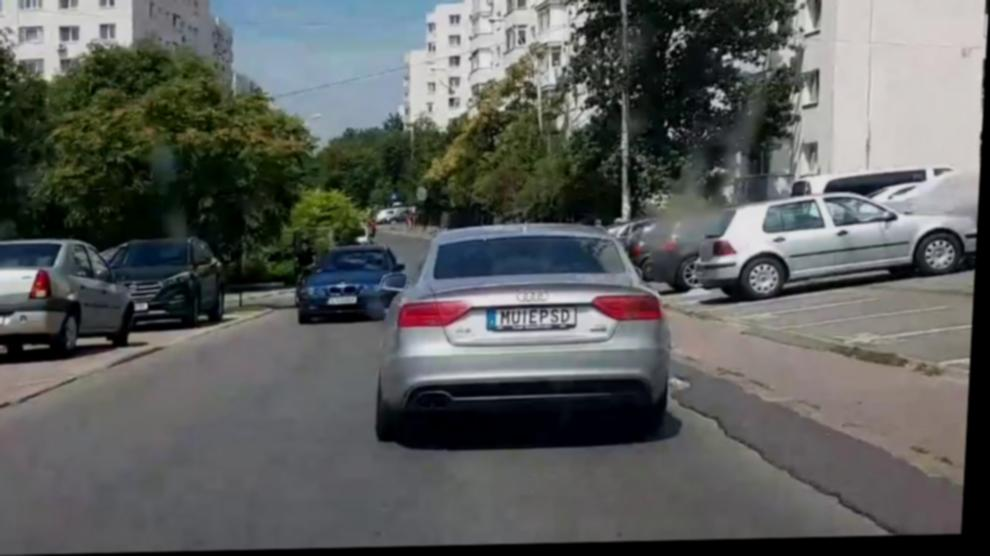License_Plate: (490, 308, 580, 328)
